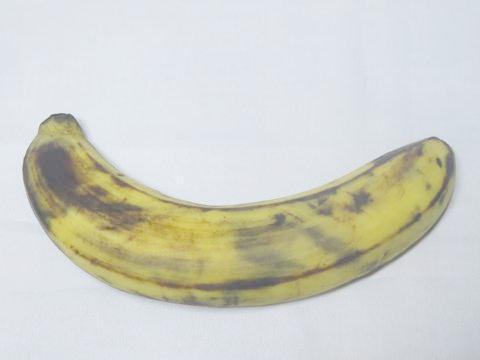overripe: (13, 97, 468, 320)
